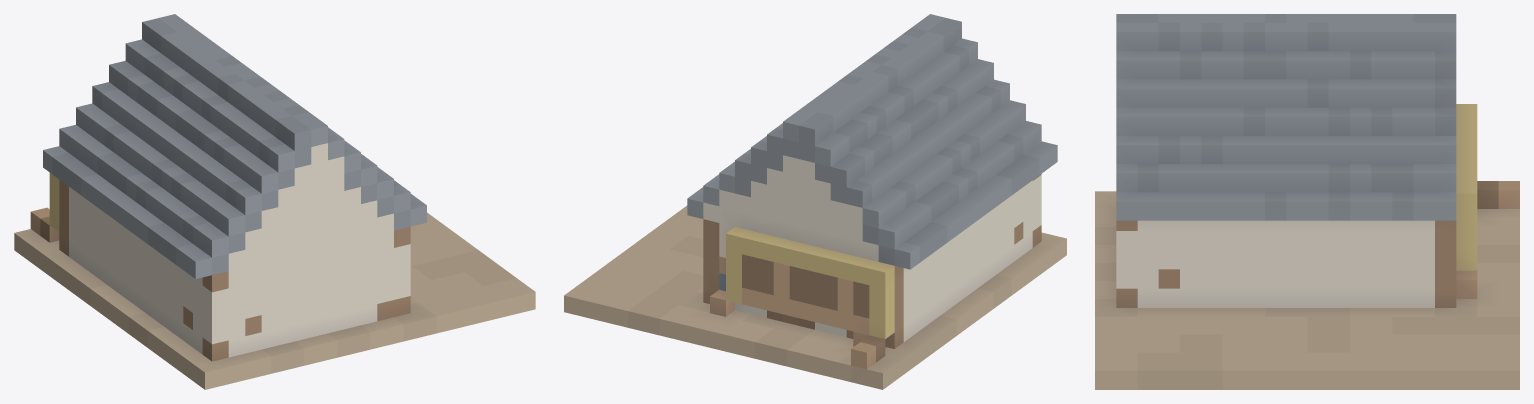
The model's file is luthier.lite.glb.
The picture shows the model from 3 angles, left to right: view 1: azimuth 30°, elevation 25°; view 2: azimuth 150°, elevation 25°; view 3: azimuth 270°, elevation 25°; orthographic projection. The views are drawn at different scales.
Visible parts, largest first — view 1: luthier; view 2: luthier; view 3: luthier.
Boxes of the visible parts, bbox=[...] form: luthier: bbox=[14, 14, 535, 389]; luthier: bbox=[564, 14, 1066, 389]; luthier: bbox=[1095, 14, 1519, 389].
Size of the model in its own units: 5 by 3.25 by 5.
